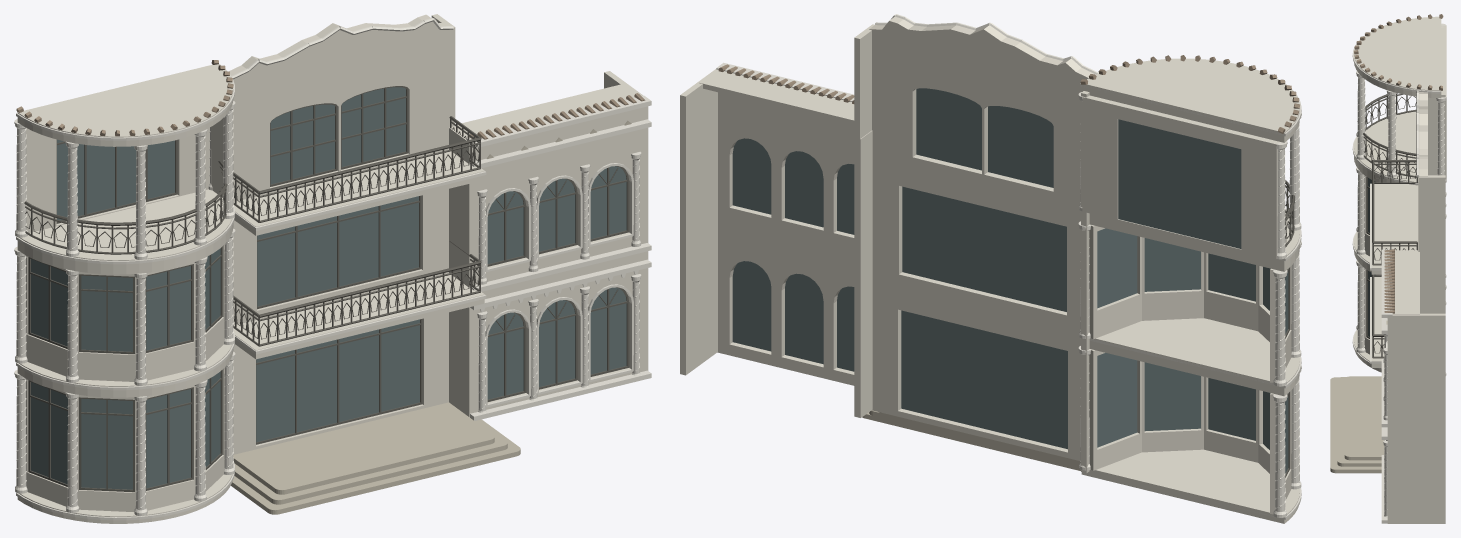
File: xuhui-yongfu-road-151-south-front-lod.glb
3 renders of one model, left to right at view 1: azimuth 30°, elevation 25°; view 2: azimuth 150°, elevation 25°; view 3: azimuth 270°, elevation 25°, orthographic. The views are drawn at different scales.
Parts seen in each view (by area): view 1: 永福路151号花园住宅南立面; view 2: 永福路151号花园住宅南立面; view 3: 永福路151号花园住宅南立面.
Boxes of the visible parts, x1,y1,x2,y2 form: 永福路151号花园住宅南立面: (14, 14, 651, 523); 永福路151号花园住宅南立面: (680, 14, 1301, 523); 永福路151号花园住宅南立面: (1330, 14, 1446, 523).
Bounding box in the file's own units: 17.87 × 11.91 × 4.
